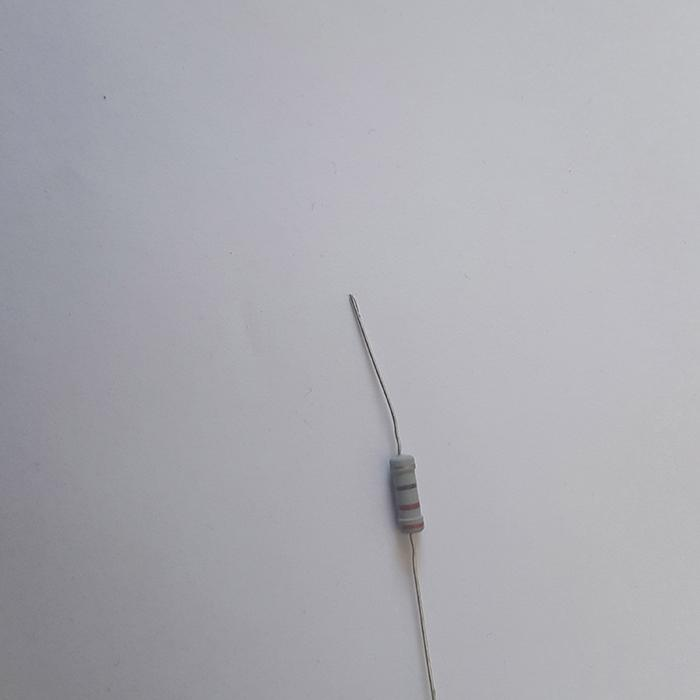resistor: (387, 451, 425, 535)
